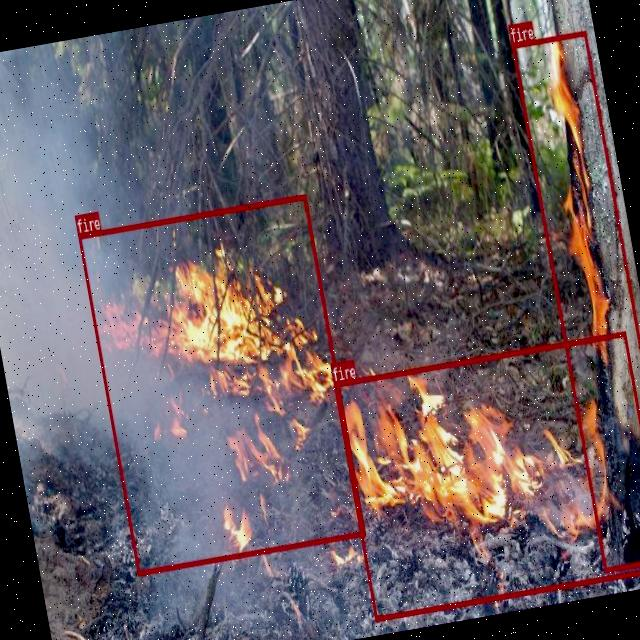fire: (76, 193, 364, 574), (332, 329, 640, 620), (510, 29, 640, 571)
